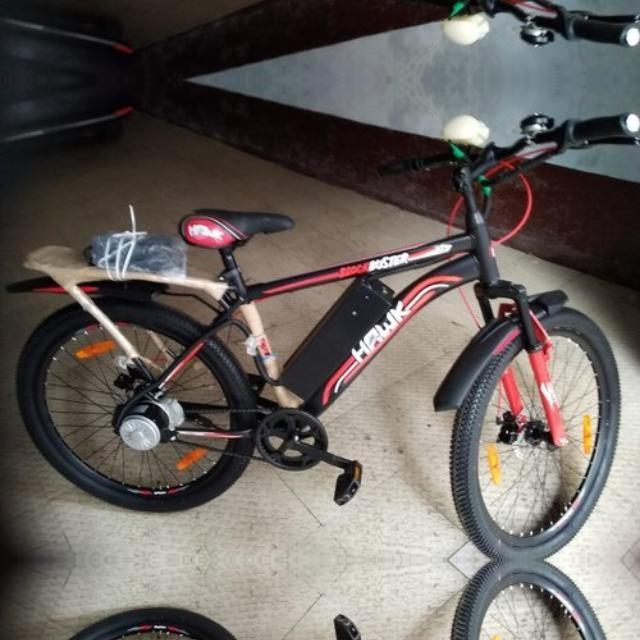obstacle: (8, 114, 640, 560), (8, 559, 639, 640), (8, 0, 639, 46)
